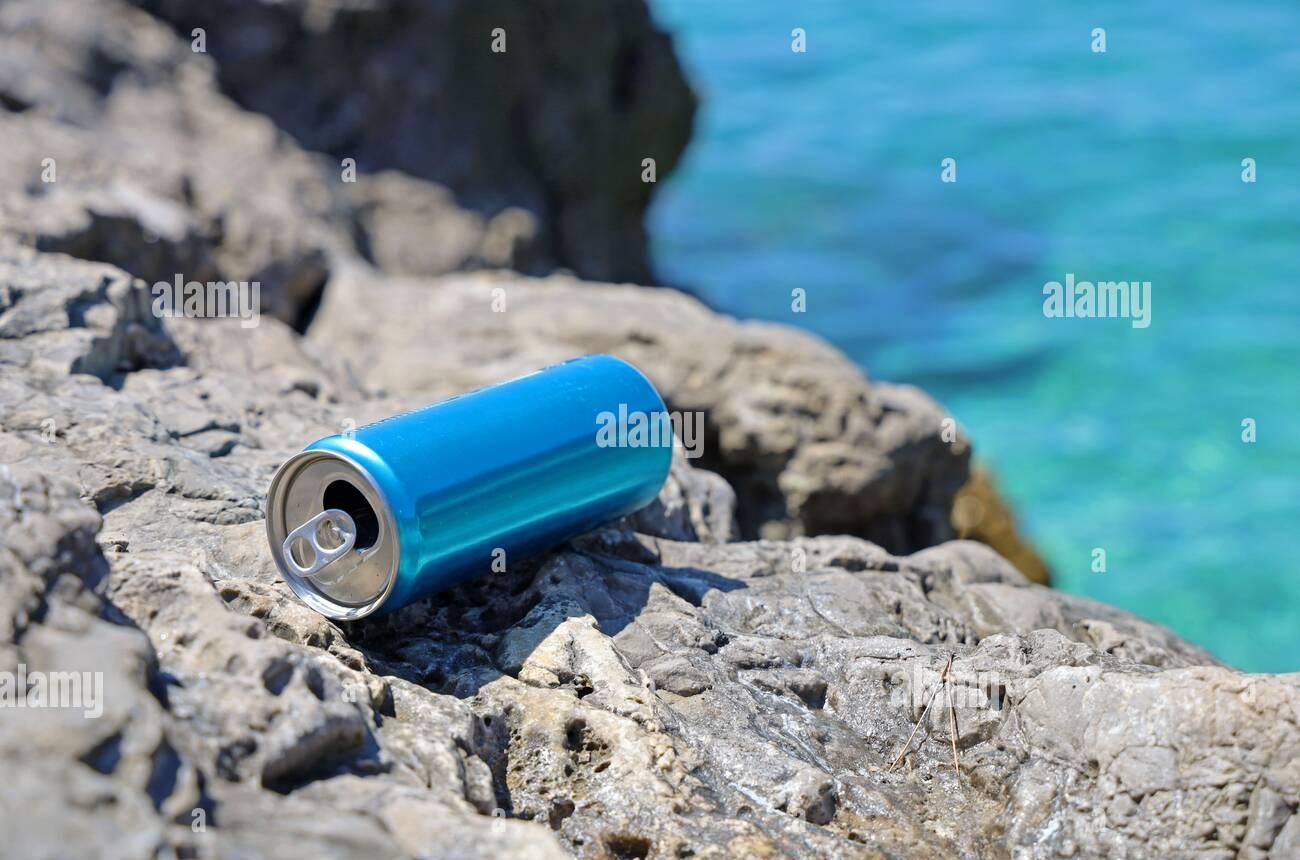Metal: (257, 348, 673, 625)
